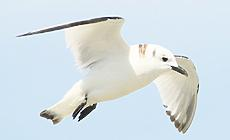bird: (13, 12, 200, 129)
